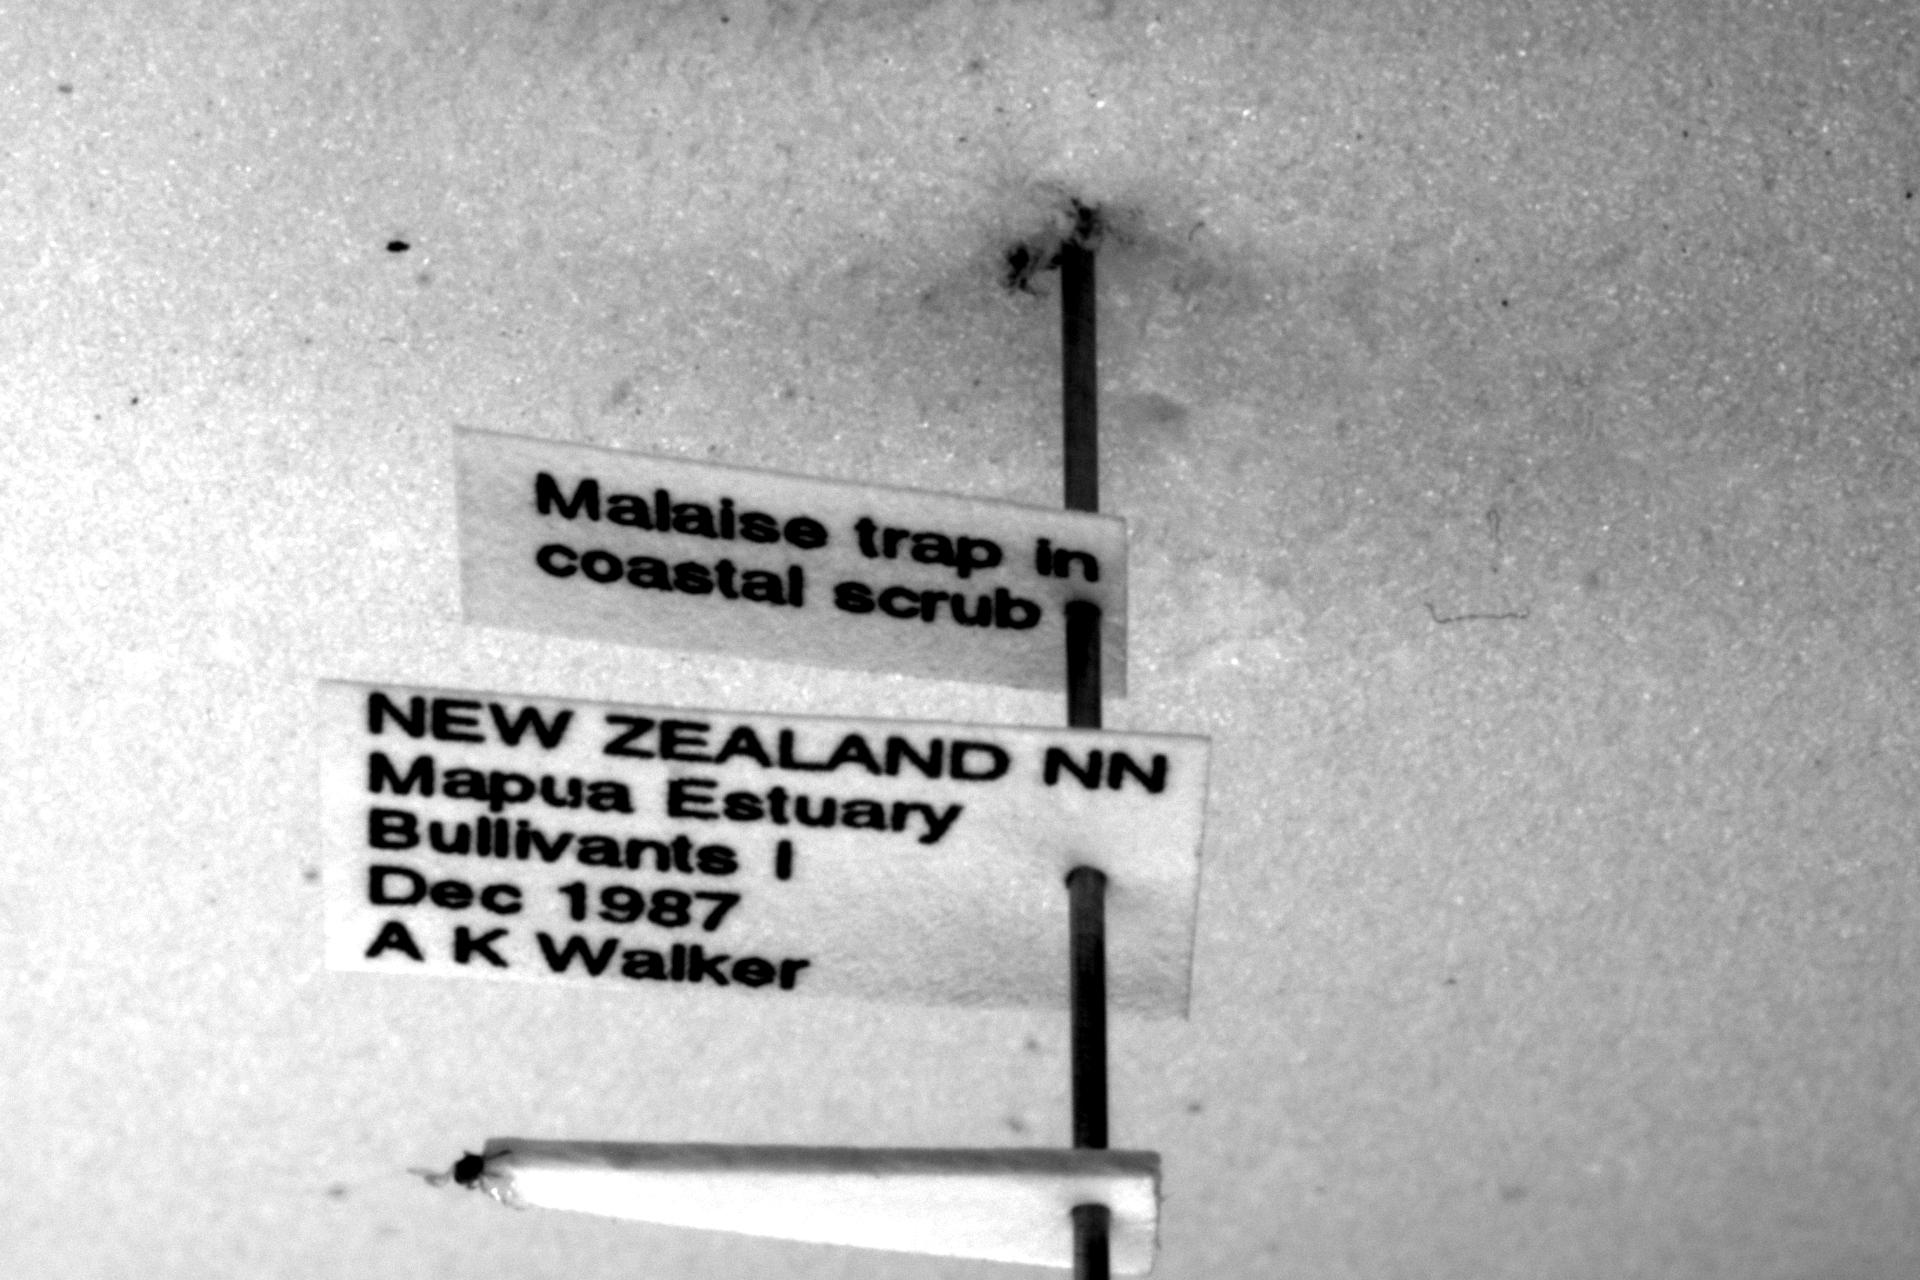typed_label: (319, 682, 1208, 1016), (458, 428, 1125, 694)
